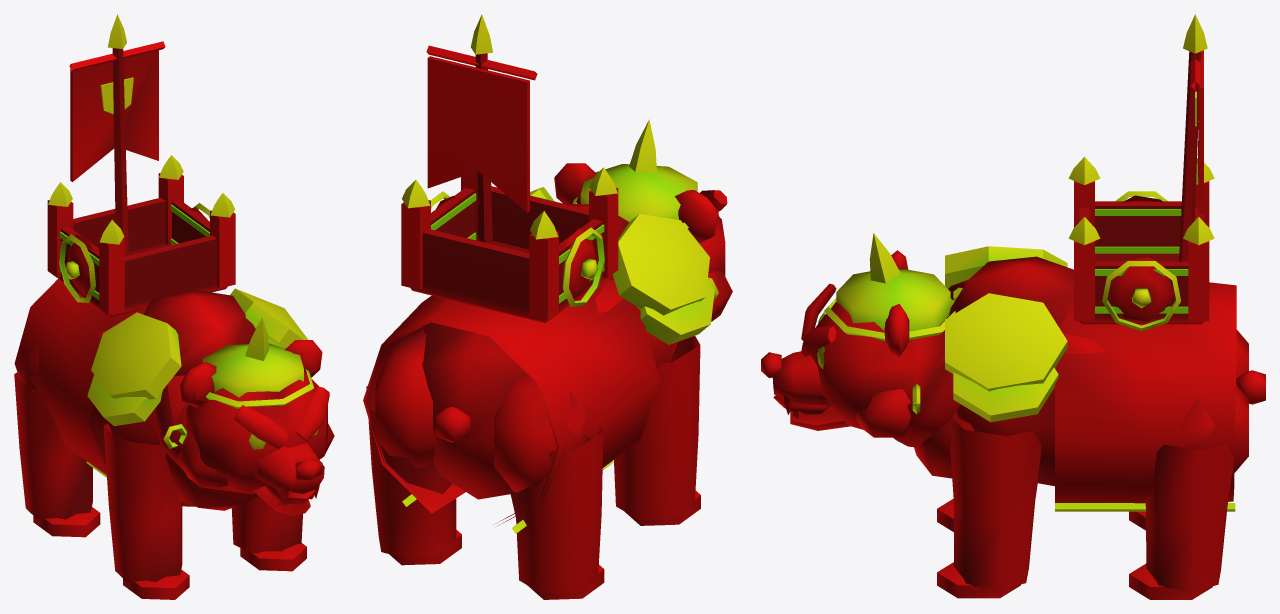
Rendered from GiantBear_LOD1.glb.
The picture shows the model from 3 angles, left to right: view 1: azimuth 30°, elevation 25°; view 2: azimuth 150°, elevation 25°; view 3: azimuth 270°, elevation 25°; orthographic projection. The views are drawn at different scales.
Visible parts, largest first — view 1: GiantBear_LOD1; view 2: GiantBear_LOD1; view 3: GiantBear_LOD1.
Part boxes in pixels (x1,y1,x2,y2): GiantBear_LOD1: [14, 14, 334, 599]; GiantBear_LOD1: [363, 14, 732, 599]; GiantBear_LOD1: [761, 14, 1265, 599].
Bounding box in the file's own units: 1.84 × 4.06 × 3.42.
